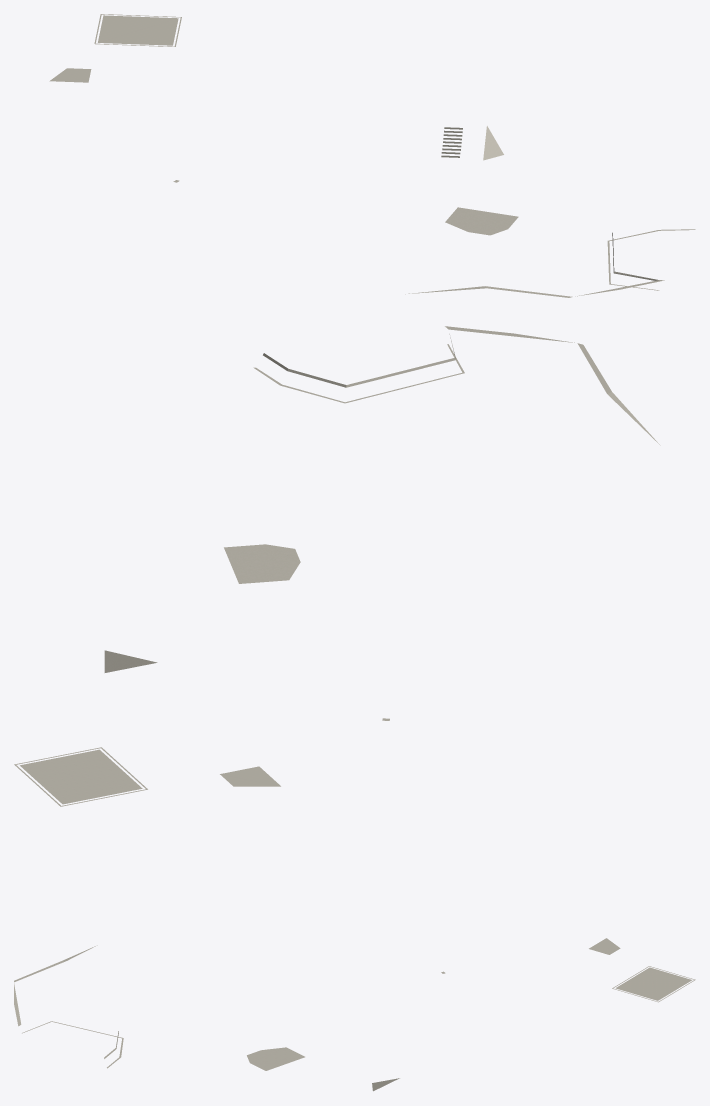
Rendered from kd_stage_13612f_4_12_bounded.glb.
3 views of the same model, one above another, from view 1: azimuth 30°, elevation 25°; view 2: azimuth 150°, elevation 25°; view 3: azimuth 270°, elevation 25° (orthographic). The views are drawn at different scales.
Parts seen in each view (by area): view 1: kd_stage_13612f_4_12_bounded; view 2: kd_stage_13612f_4_12_bounded; view 3: kd_stage_13612f_4_12_bounded.
Part boxes in pixels (x1,y1,x2,y2): kd_stage_13612f_4_12_bounded: (49, 14, 695, 297); kd_stage_13612f_4_12_bounded: (14, 326, 660, 806); kd_stage_13612f_4_12_bounded: (14, 938, 695, 1091).
Size of the model in its own units: 88.55 by 17.7 by 137.
1 material, 1 textured.
